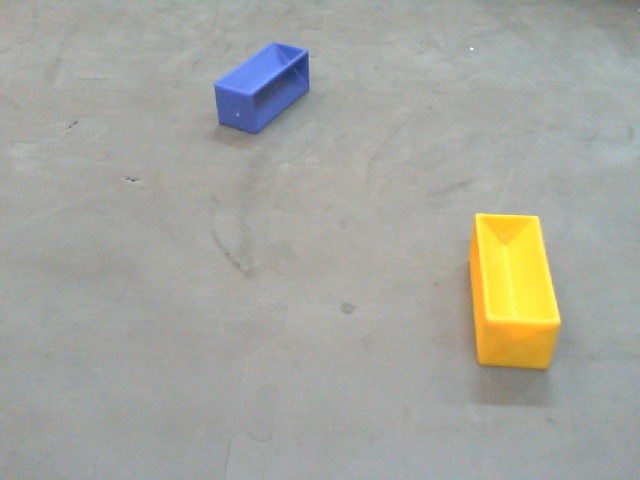BlueSample: (212, 38, 315, 135)
YellowSample: (465, 211, 569, 373)
